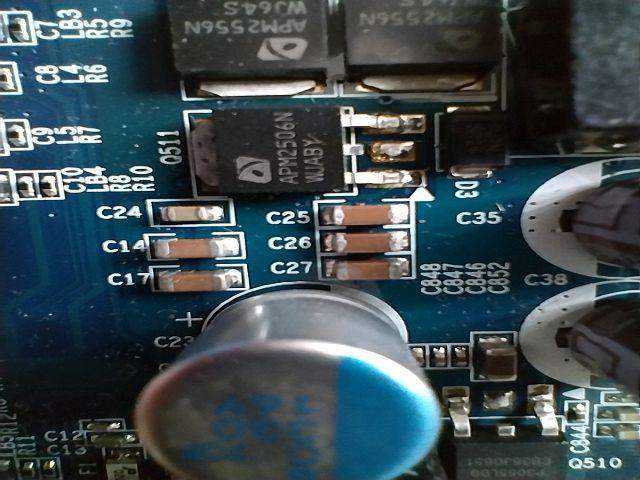capacitor: (148, 259, 250, 294), (314, 256, 414, 288), (140, 235, 262, 259), (469, 331, 523, 384), (147, 195, 236, 225), (314, 207, 414, 229), (318, 236, 417, 254), (86, 435, 144, 448), (599, 422, 640, 440), (601, 406, 640, 424), (78, 419, 126, 432), (568, 402, 590, 428)
resistor: (2, 14, 38, 46), (35, 173, 64, 198), (9, 119, 29, 148), (14, 174, 34, 202), (18, 459, 42, 480), (42, 459, 58, 480), (0, 64, 9, 98)
